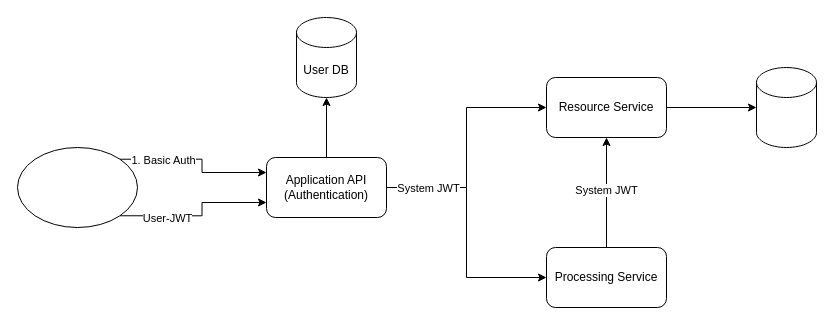
The diagram is 834 pixels wide and 325 high, and some of its shapes have lost their labels. The shapes that lost their labels are listed below. From the top down, each one's centre as x and y in pixels, then its label:
point (786, 107): Resource DB
point (77, 187): User
